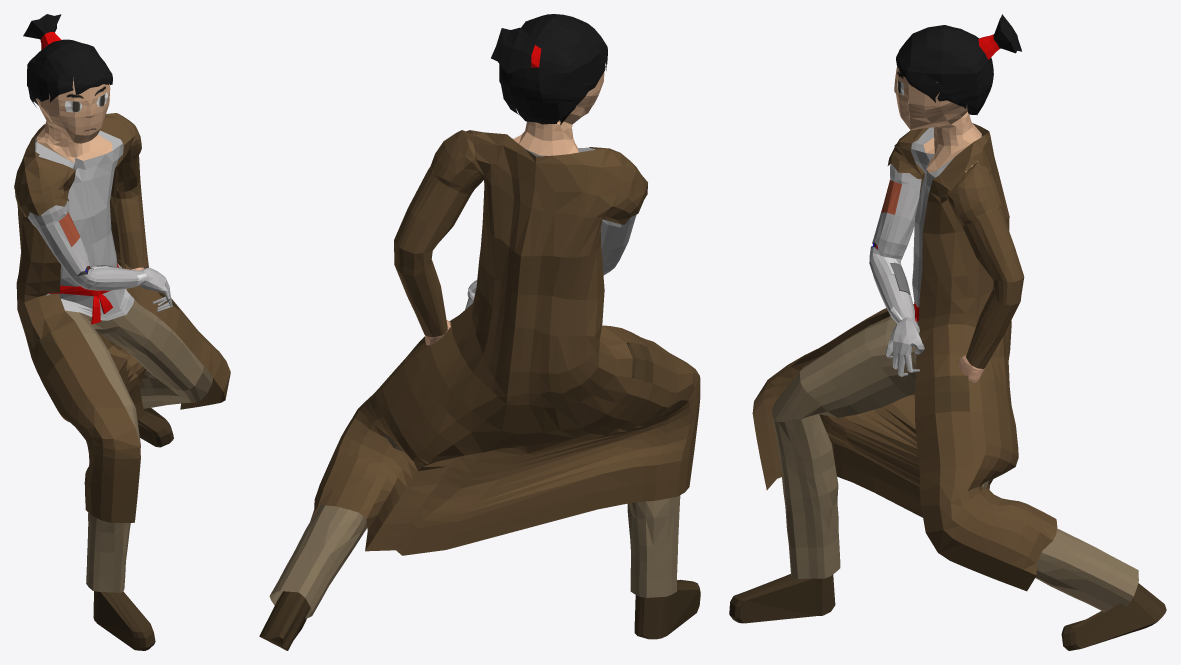
The model's file is One_RL_000006.obj.
3 views of the same model, side by side, from view 1: azimuth 30°, elevation 25°; view 2: azimuth 150°, elevation 25°; view 3: azimuth 270°, elevation 25° (orthographic). The views are drawn at different scales.
Parts seen in each view (by area): view 1: Hair_Cube.004; view 2: Hair_Cube.004; view 3: Hair_Cube.004.
Boxes of the visible parts, box(x1,y1,x2,y2) form: Hair_Cube.004: box(14, 14, 230, 650); Hair_Cube.004: box(259, 14, 700, 650); Hair_Cube.004: box(729, 14, 1166, 650).
Bounding box in the file's own units: 1.49 × 3.52 × 2.28.
